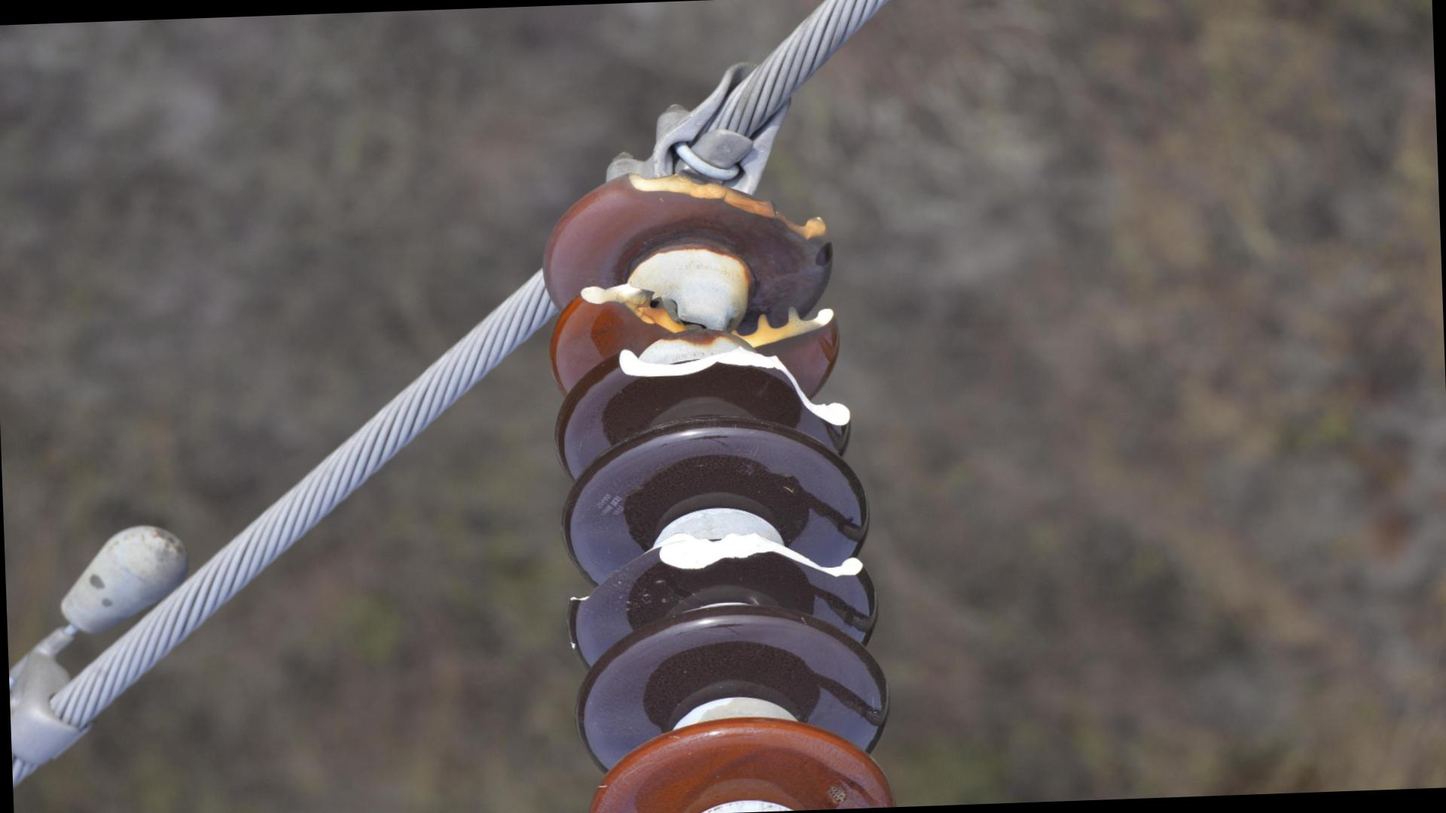damper: (1, 512, 204, 787)
